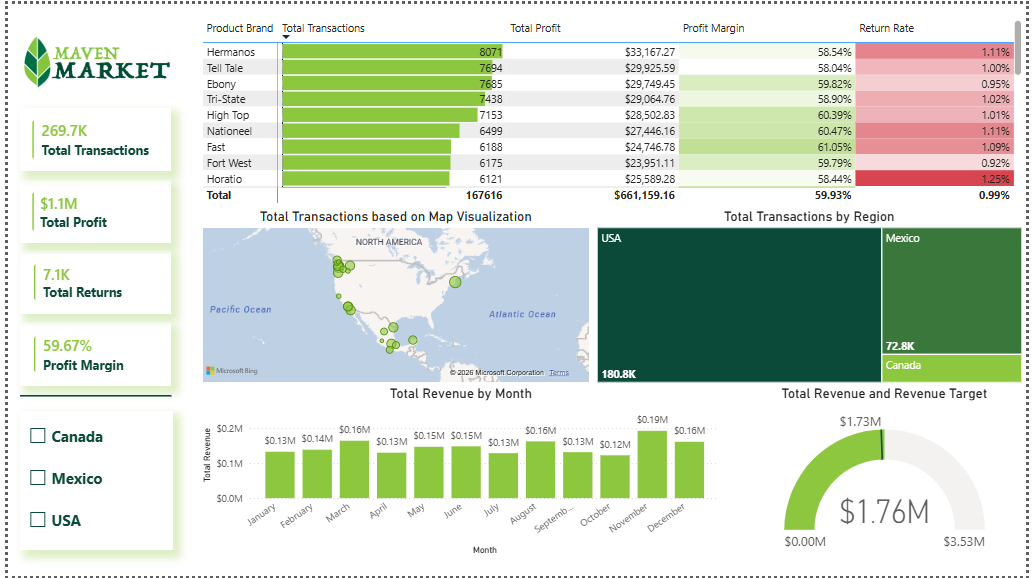

The page's visual inventory and layout, read from the dashboard file:
{"tool":"powerbi","page":{"name":"Executive Board","canvas":[1280,720],"ordinal":0},"visuals":[{"type":"image","box":[16,24,192,96],"z":1000},{"type":"cardVisual","fields":{"Data":["Transaction Data.Total Transactions"]},"box":[16,130,190,80],"z":2000},{"type":"cardVisual","fields":{"Data":["Transaction Data.Total Profit"]},"box":[16,220,190,80],"z":3000},{"type":"cardVisual","fields":{"Data":["Return Data.Total Returns"]},"box":[16,310,190,80],"z":4000},{"type":"cardVisual","fields":{"Data":["Transaction Data.Profit Margin"]},"box":[16,400,190,80],"z":5000},{"type":"slicer","fields":{"Values":["Customers.customer_country"]},"box":[16,512,192,176],"z":6000},{"type":"shape","box":[15.4,486,190.4,12],"z":7000},{"type":"pivotTable","title":"Brand Performance","fields":{"Rows":["Products.product_brand"],"Values":["Transaction Data.Total Transactions","Transaction Data.Total Profit","Transaction Data.Profit Margin","Return Data.Return Rate"]},"box":[240,16,1040,240],"z":8000},{"type":"columnChart","fields":{"Category":["Calendar.Start of Week.Variation.Date Hierarchy.Year","Calendar.Start of Week.Variation.Date Hierarchy.Quarter","Calendar.Start of Week.Variation.Date Hierarchy.Month","Calendar.Start of Week.Variation.Date Hierarchy.Day"],"Y":["Transaction Data.Total Revenue"]},"box":[240,480,660,218],"z":9000},{"type":"map","title":"Total Transactions based on Map Visualization","fields":{"Category":["Stores.store_city"],"Size":["Transaction Data.Total Transactions"]},"box":[240,256,496,224],"z":10000},{"type":"treemap","title":"Total Transactions by Region","fields":{"Group":["Stores.store_country","Stores.store_state","Stores.store_city"],"Values":["Transaction Data.Total Transactions"]},"box":[736,256,544,224],"z":12000},{"type":"gauge","fields":{"TargetValue":["Transaction Data.Revenue Target"],"Y":["Transaction Data.Total Revenue"]},"box":[928,480,348,218],"z":13000}]}

Visuals, with their boxes in screenshot pixels (x1, y1, x2, y2), scaled from the page's 1280x720 canvas onto the 1032x578 screenshot:
image: [x1=13, y1=19, x2=168, y2=96]
cardVisual - Transaction Data.Total Transactions: [x1=13, y1=104, x2=166, y2=169]
cardVisual - Transaction Data.Total Profit: [x1=13, y1=177, x2=166, y2=241]
cardVisual - Return Data.Total Returns: [x1=13, y1=249, x2=166, y2=313]
cardVisual - Transaction Data.Profit Margin: [x1=13, y1=321, x2=166, y2=385]
slicer - Customers.customer_country: [x1=13, y1=411, x2=168, y2=552]
shape: [x1=12, y1=390, x2=166, y2=400]
"Brand Performance" pivotTable: [x1=194, y1=13, x2=1031, y2=206]
columnChart - Calendar.Start of Week.Variation.Date Hierarchy.Year x Calendar.Start of Week.Variation.Date Hierarchy.Quarter: [x1=194, y1=385, x2=726, y2=560]
"Total Transactions based on Map Visualization" map: [x1=194, y1=206, x2=593, y2=385]
"Total Transactions by Region" treemap: [x1=593, y1=206, x2=1031, y2=385]
gauge - Transaction Data.Revenue Target x Transaction Data.Total Revenue: [x1=748, y1=385, x2=1029, y2=560]
